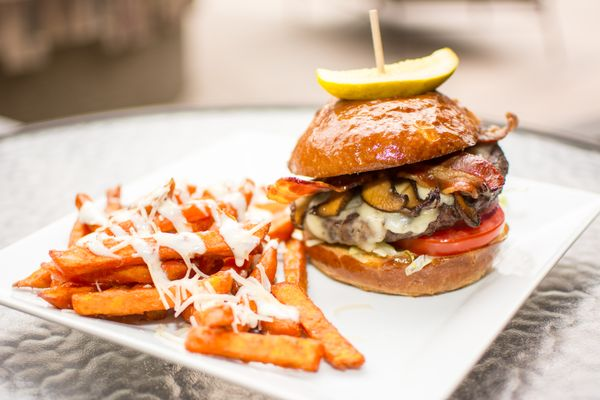soup: (264, 89, 516, 297)
